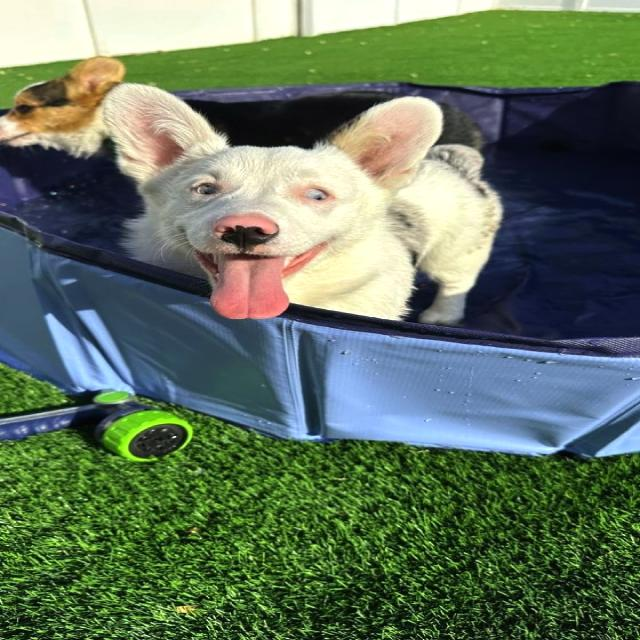corgi_dog: (102, 78, 449, 334)
